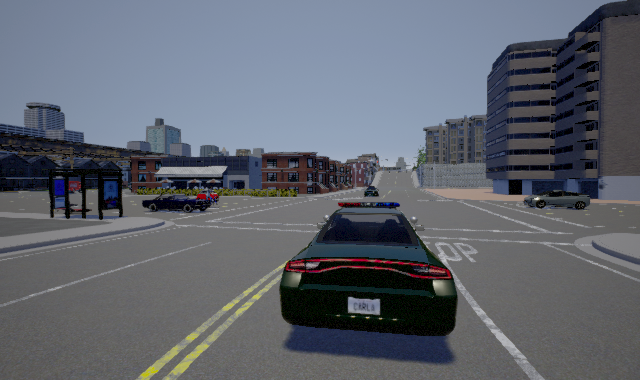vehicle: (279, 202, 458, 336), (142, 189, 219, 213), (523, 190, 590, 210), (361, 185, 383, 200)
